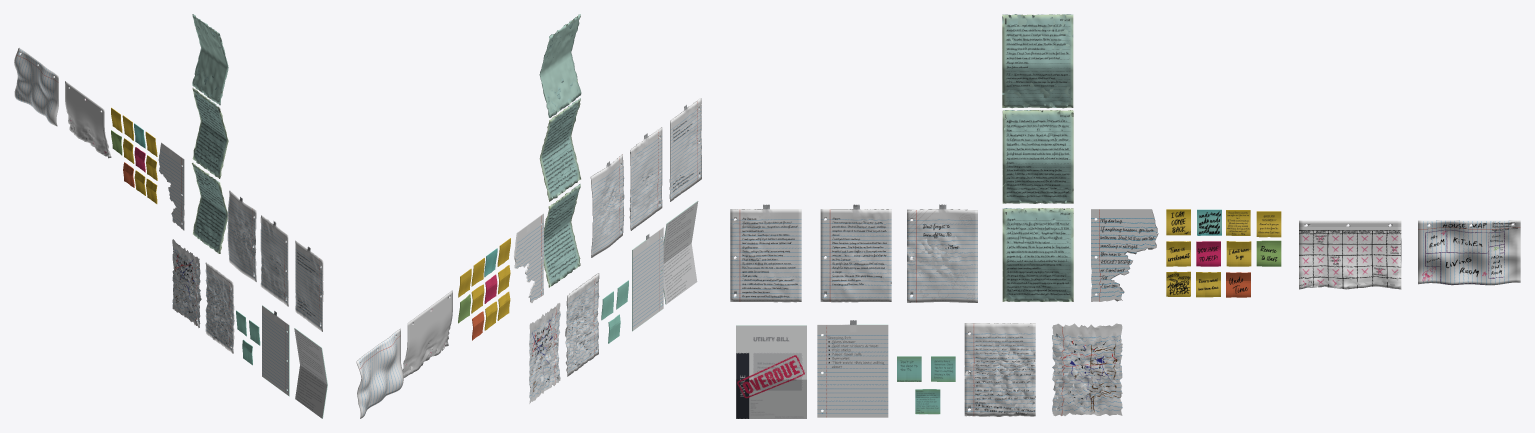
File: NotesGeometry.fbx
The picture shows the model from 3 angles, left to right: view 1: azimuth 30°, elevation 25°; view 2: azimuth 150°, elevation 25°; view 3: azimuth 270°, elevation 25°; orthographic projection. The views are drawn at different scales.
Parts seen in each view (by area): view 1: MomNote.002, MomNote.009, MomNote.001, MomNote.Love.3, MomNote.003, MomNote.Love.2, KidNote.001, MomNote.Love.1, DadNote.3.Bill, DadNote.2.GroceryList, KidNote.002, MomNote.008 (+1 smaller); view 2: MomNote.003, KidNote.001, MomNote.Love.3, MomNote.009, MomNote.Love.2, MomNote.001, DadNote.2.GroceryList, MomNote.Love.1, DadNote.3.Bill, MomNote.002, MomNote.008, KidNote.002 (+1 smaller); view 3: MomNote.008, DadNote.2.GroceryList, MomNote.Love.2, MomNote.Love.1, MomNote.Love.3, KidNote.001, MomNote.003, MomNote.001, MomNote.009, DadNote.3.Bill, MomNote.002, KidNote.002 (+1 smaller).
Part boxes in pixels (x1,y1,x2,y2): MomNote.002: (14,48,58,126); MomNote.009: (227,190,256,281); MomNote.001: (295,240,323,331); MomNote.Love.3: (192,14,228,105); MomNote.003: (260,215,288,306); MomNote.Love.2: (192,88,228,178); KidNote.001: (205,262,234,353); MomNote.Love.1: (192,163,227,253); DadNote.3.Bill: (294,328,327,418); DadNote.2.GroceryList: (262,305,289,396); KidNote.002: (172,239,201,327); MomNote.008: (65,81,111,158); MomNote.003: (629,127,662,230); KidNote.001: (565,273,599,376); MomNote.Love.3: (539,14,581,117); MomNote.009: (590,154,624,257); MomNote.Love.2: (539,98,580,201); MomNote.001: (669,98,701,201); DadNote.2.GroceryList: (632,227,663,331); MomNote.Love.1: (544,184,580,287); DadNote.3.Bill: (661,201,698,304); MomNote.002: (356,328,403,418); MomNote.008: (402,290,452,377); KidNote.002: (529,303,560,403); MomNote.008: (1299,220,1401,289); DadNote.2.GroceryList: (817,320,888,417); MomNote.Love.2: (1002,110,1073,203); MomNote.Love.1: (1002,208,1073,301); MomNote.Love.3: (1002,14,1073,108); KidNote.001: (964,323,1035,416); MomNote.003: (820,204,891,302); MomNote.001: (730,204,801,302); MomNote.009: (907,204,977,302); DadNote.3.Bill: (736,325,806,418); MomNote.002: (1418,220,1520,285); KidNote.002: (1052,323,1122,416).
Bounding box in the file's own units: 44.25 × 826 × 1464.
Materials: 51 (37 with a texture image).
